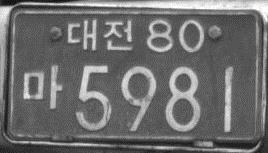0: (178, 18, 205, 53)
1: (215, 64, 239, 134)
5: (74, 63, 112, 131)
8: (164, 64, 201, 135), (145, 18, 173, 53)
9: (119, 64, 157, 133)
대전_O: (66, 16, 134, 52)
마: (21, 62, 63, 111)
